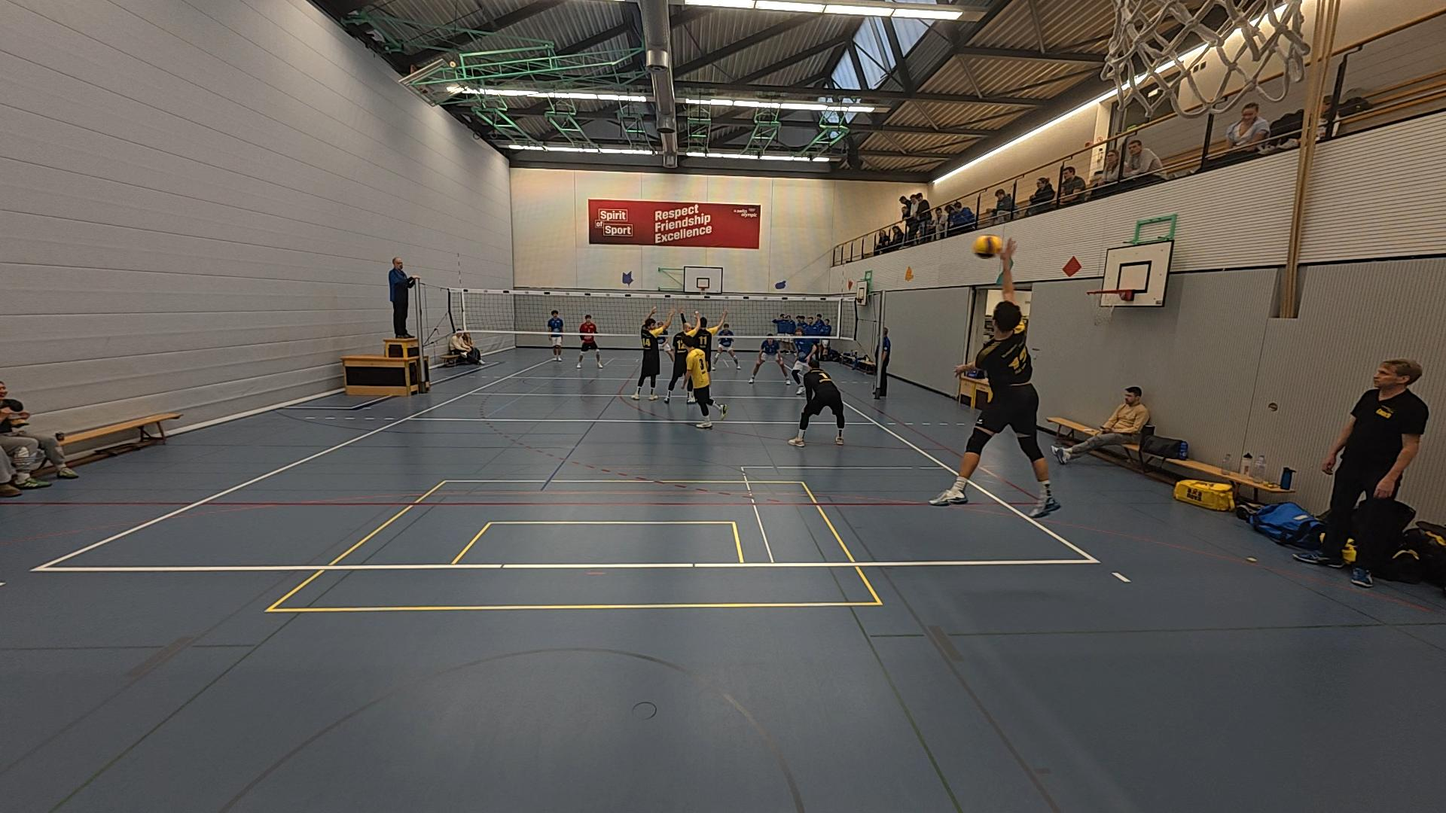battuta: (923, 228, 1061, 526)
